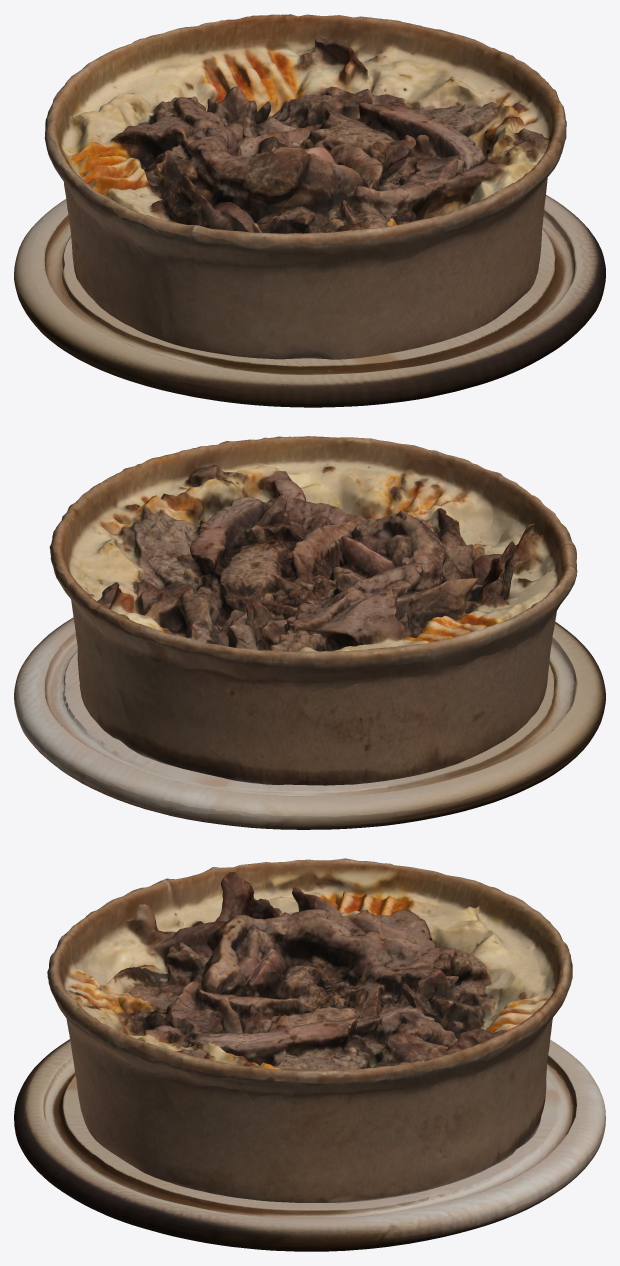
Rendered from Humos.beef.shawerma.glb.
3 renders of one model, top to bottom at view 1: azimuth 30°, elevation 25°; view 2: azimuth 150°, elevation 25°; view 3: azimuth 270°, elevation 25°, orthographic.
Parts seen in each view (by area): view 1: /Root/Scenes/Scene/Object_37/Object_38/Submesh_0, /Root/Scenes/Scene/Object_37/Object_41/Submesh_0; view 2: /Root/Scenes/Scene/Object_37/Object_38/Submesh_0, /Root/Scenes/Scene/Object_37/Object_41/Submesh_0; view 3: /Root/Scenes/Scene/Object_37/Object_38/Submesh_0, /Root/Scenes/Scene/Object_37/Object_41/Submesh_0.
Boxes of the visible parts, x1,y1,x2,y2 form: /Root/Scenes/Scene/Object_37/Object_38/Submesh_0: (44,14,566,359); /Root/Scenes/Scene/Object_37/Object_41/Submesh_0: (14,195,605,407); /Root/Scenes/Scene/Object_37/Object_38/Submesh_0: (49,436,577,785); /Root/Scenes/Scene/Object_37/Object_41/Submesh_0: (14,617,605,829); /Root/Scenes/Scene/Object_37/Object_38/Submesh_0: (47,858,572,1203); /Root/Scenes/Scene/Object_37/Object_41/Submesh_0: (14,1039,605,1251).
Bounding box in the file's own units: 0.1851 × 0.0632 × 0.1851.
2 materials, 2 textured.
